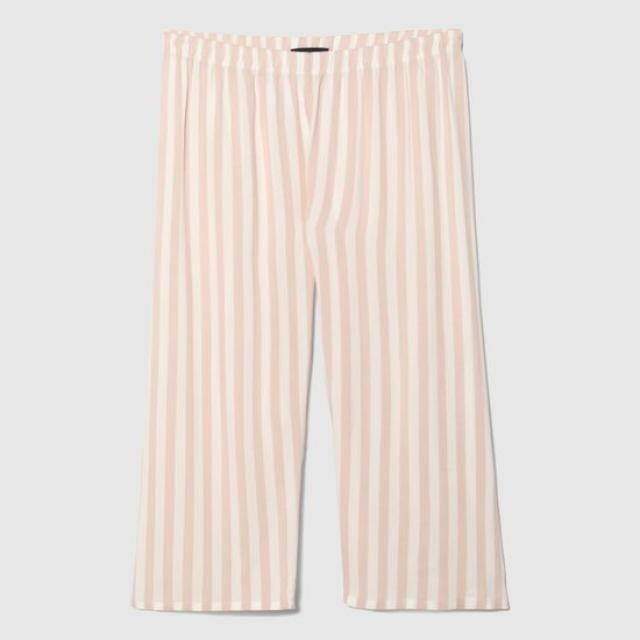long-pants: (127, 30, 510, 618)
